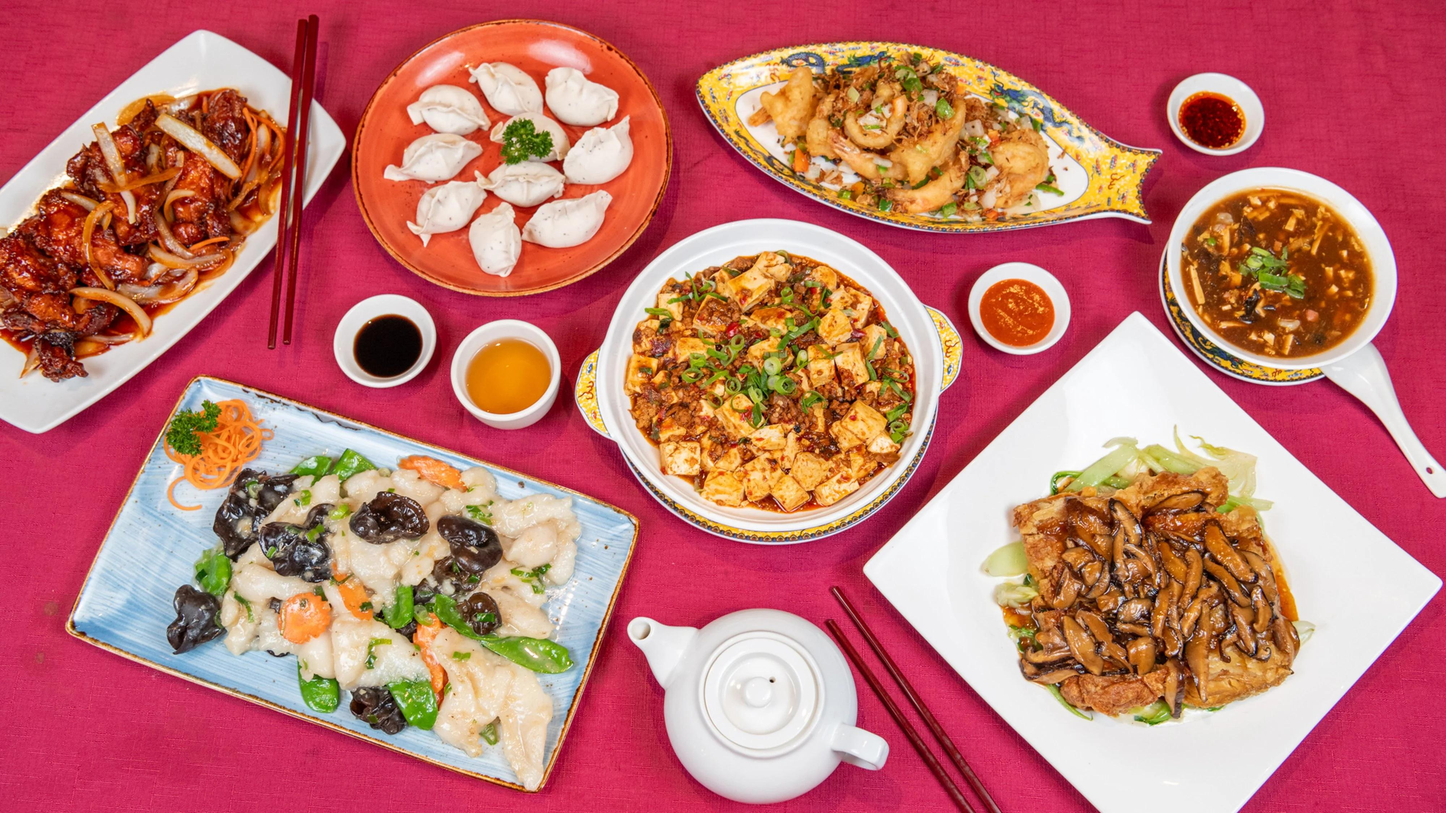Braised Crucian Carp: (907, 343, 1407, 807), (65, 420, 617, 795), (0, 29, 351, 430), (591, 211, 876, 524), (698, 40, 1156, 234), (347, 19, 651, 300), (1161, 167, 1407, 387)
